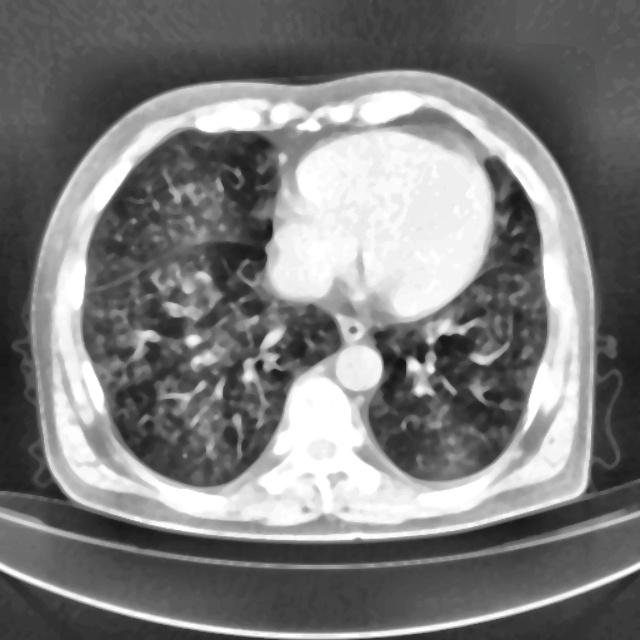covid: (26, 70, 597, 537)
